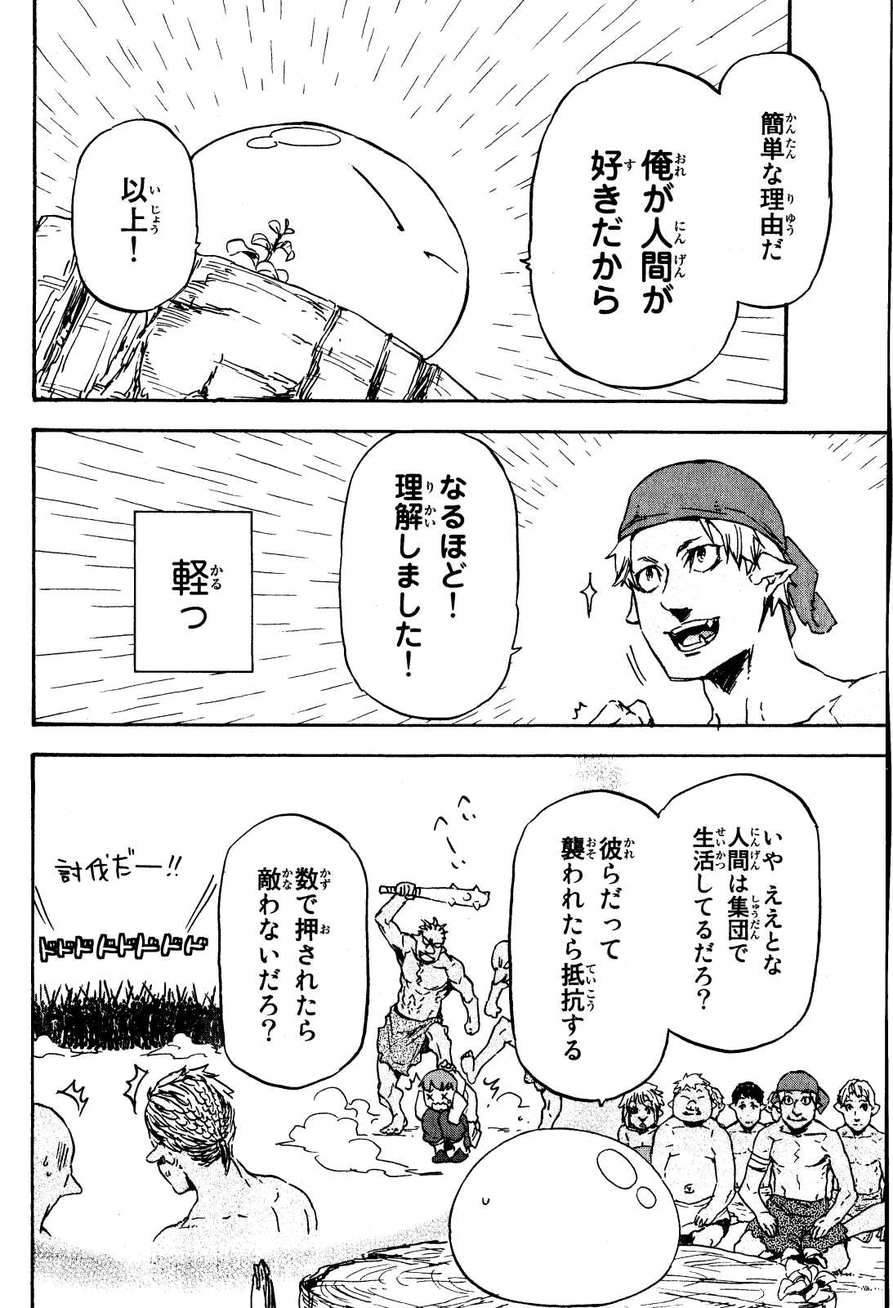bubbles: (515, 46, 837, 396), (501, 768, 822, 1109), (324, 432, 539, 725), (212, 809, 368, 1097), (71, 115, 204, 316), (128, 502, 259, 679)
